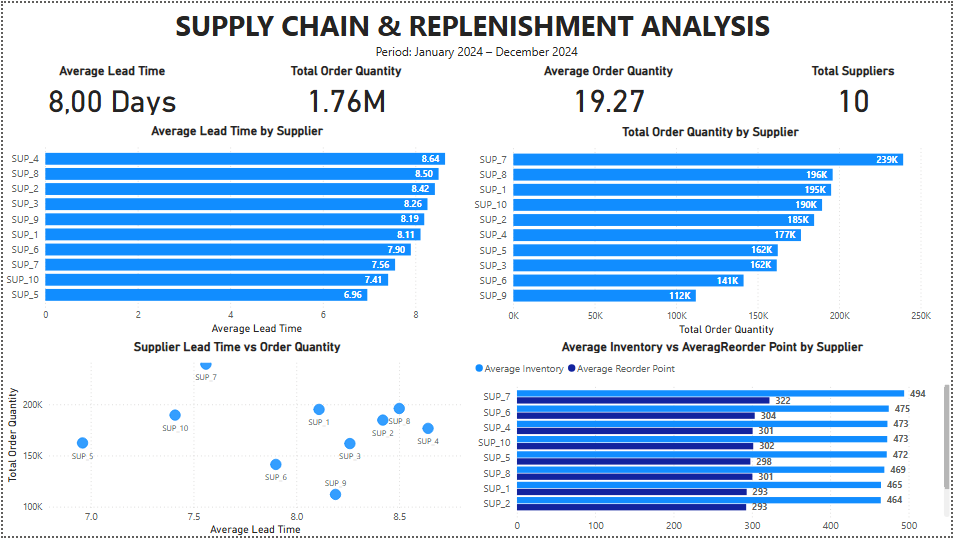

What the dashboard file says about the page in this screenshot:
{"tool":"powerbi","page":{"name":"Supply Chain & Replenishment","canvas":[1280,720],"ordinal":2},"visuals":[{"type":"textbox","box":[0,0,1279.7,85.1],"z":0},{"type":"card","title":"Average Lead Time","fields":{"Values":["retail_sales vw_supplier_summary.Avg Lead Time Display"]},"box":[15.7,66.5,262.9,90],"z":1000},{"type":"card","title":"Total Order Quantity","fields":{"Values":["Sum(retail_sales vw_supplier_summary.Total Order Quantity)"]},"box":[337.1,66.5,254.3,90],"z":2000},{"type":"card","title":"Average Order Quantity","fields":{"Values":["Avg(retail_sales vw_supplier_summary.Avg Order Quantity)"]},"box":[691.4,66.5,252.9,90],"z":3000},{"type":"card","title":"Total Suppliers","fields":{"Values":["Count(retail_sales vw_supplier_summary.Supplier ID)"]},"box":[1035.7,66.5,227.1,90],"z":4000},{"type":"clusteredBarChart","title":"Average Lead Time by Supplier ","fields":{"Category":["retail_sales vw_supplier_summary.Supplier ID"],"Y":["Avg(retail_sales vw_supplier_summary.Avg Lead Time)"]},"box":[0,151,632.9,298.6],"z":5000},{"type":"clusteredBarChart","title":"Total Order Quantity by Supplier","fields":{"Category":["retail_sales vw_supplier_summary.Supplier ID"],"Y":["Sum(retail_sales vw_supplier_summary.Total Order Quantity)"]},"box":[632.9,151,647.1,298.6],"z":6000},{"type":"scatterChart","title":"Supplier Lead Time vs Order Quantity","fields":{"X":["Avg(retail_sales vw_supplier_summary.Avg Lead Time)"],"Y":["Sum(retail_sales vw_supplier_summary.Total Order Quantity)"],"Category":["retail_sales vw_supplier_summary.Supplier ID"]},"box":[0,454.3,632.9,265.7],"z":7000},{"type":"clusteredBarChart","title":"Average Inventory vs AveragReorder Point by Supplier","fields":{"Category":["retail_sales vw_supplier_summary.Supplier ID"],"Y":["Avg(retail_sales vw_supplier_summary.Avg Inventory)","Avg(retail_sales vw_supplier_summary.Avg Reorder Point)"]},"box":[632.9,454.3,647.1,265.7],"z":8000}]}

Visuals, with their boxes in screenshot pixels (x1, y1, x2, y2), scaled from the page's 1280x720 canvas onto the 954x539 screenshot:
textbox: (left=0, top=0, right=953, bottom=64)
"Average Lead Time" card: (left=12, top=50, right=208, bottom=117)
"Total Order Quantity" card: (left=251, top=50, right=441, bottom=117)
"Average Order Quantity" card: (left=515, top=50, right=704, bottom=117)
"Total Suppliers" card: (left=772, top=50, right=941, bottom=117)
"Average Lead Time by Supplier " clusteredBarChart: (left=0, top=113, right=472, bottom=337)
"Total Order Quantity by Supplier" clusteredBarChart: (left=472, top=113, right=953, bottom=337)
"Supplier Lead Time vs Order Quantity" scatterChart: (left=0, top=340, right=472, bottom=538)
"Average Inventory vs AveragReorder Point by Supplier" clusteredBarChart: (left=472, top=340, right=953, bottom=538)
